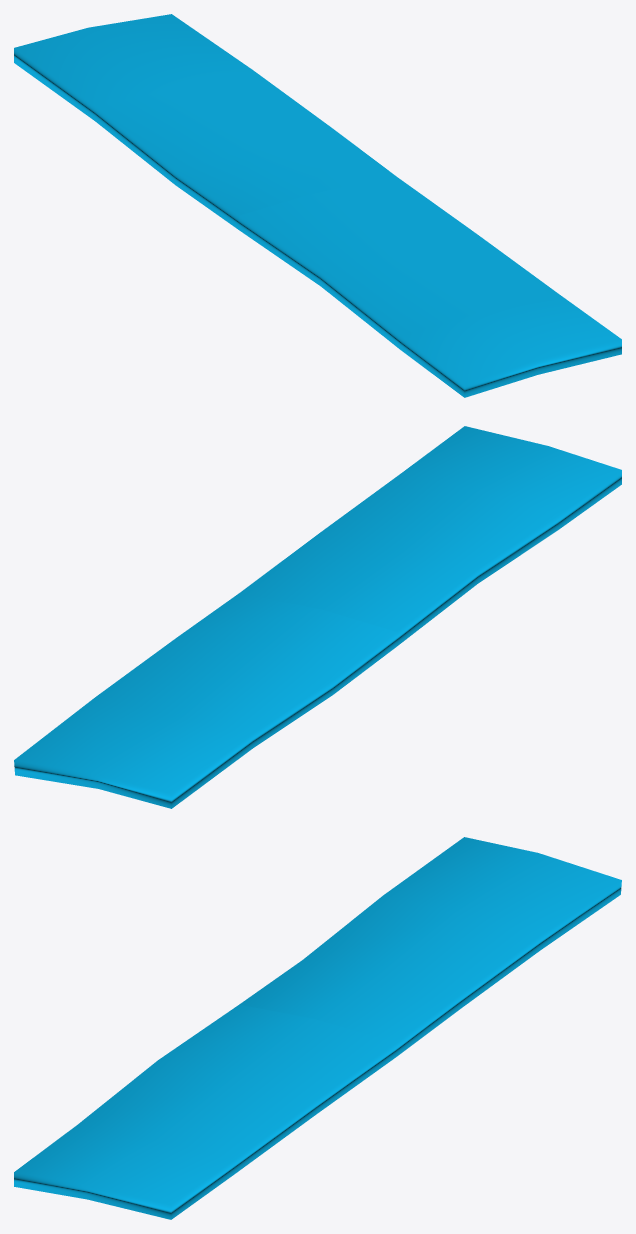
File: Table_02.fbx
3 renders of one model, top to bottom at view 1: azimuth 30°, elevation 25°; view 2: azimuth 150°, elevation 25°; view 3: azimuth 330°, elevation 25°, orthographic.
Visible parts, largest first — view 1: Table_02; view 2: Table_02; view 3: Table_02.
Part boxes in pixels (x1=…): Table_02: x1=14, y1=14, x2=621, y2=397; Table_02: x1=14, y1=426, x2=621, y2=808; Table_02: x1=14, y1=837, x2=621, y2=1219.
Bounding box in the file's own units: 80.25 × 10.83 × 397.
